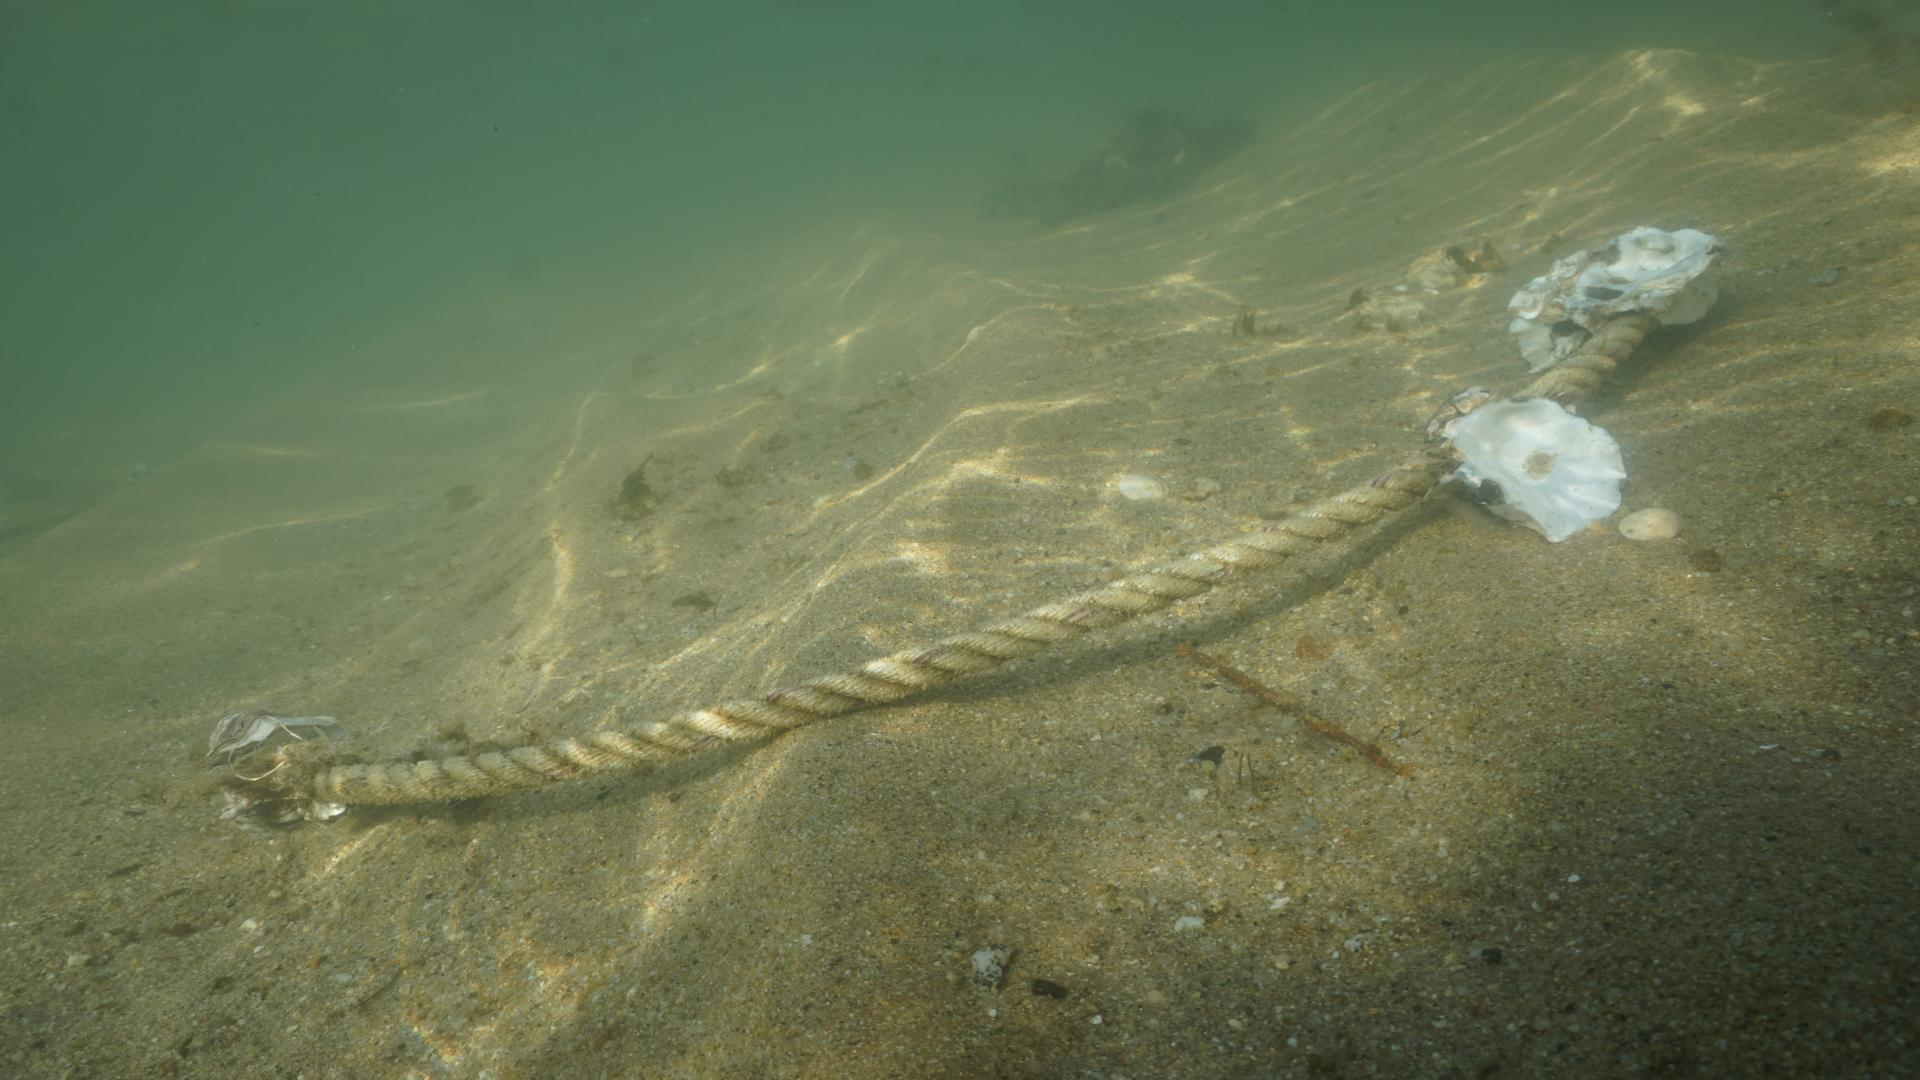rope: (306, 310, 1656, 810)
